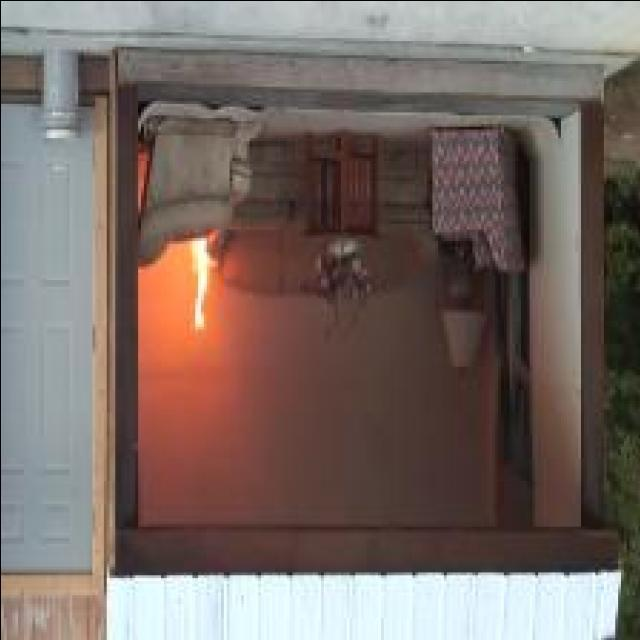Fire: (190, 240, 213, 328)
